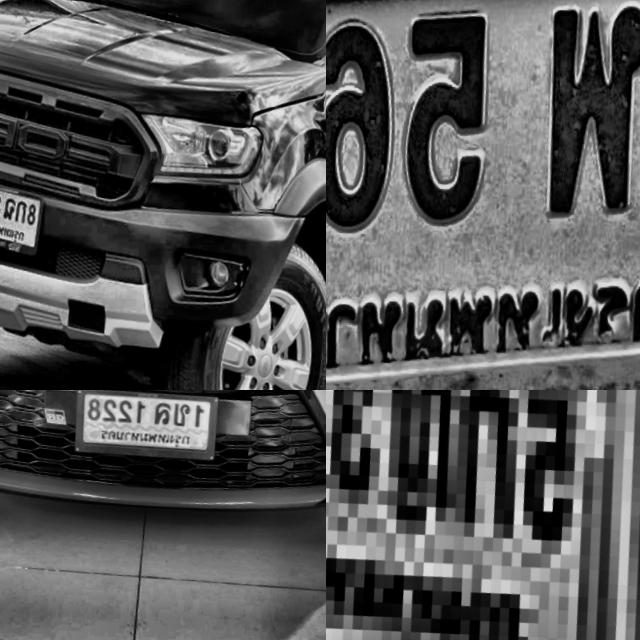license-plate: (326, 0, 640, 390), (326, 390, 640, 640), (53, 390, 232, 489), (0, 167, 49, 269)
